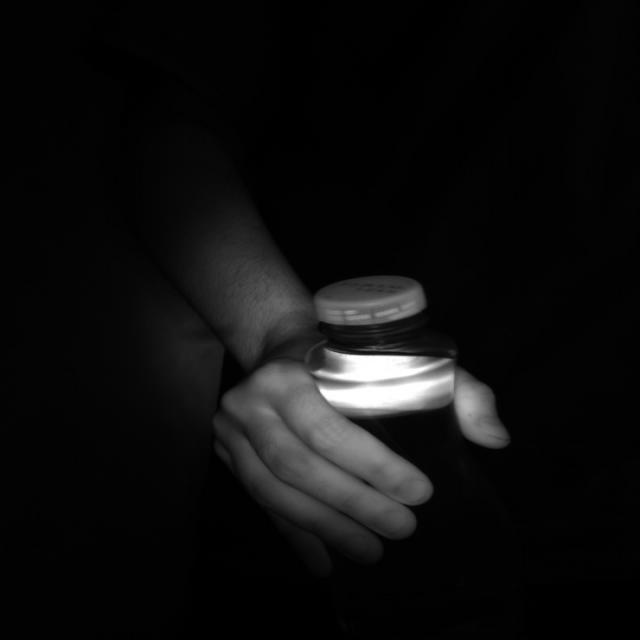Not Good: (316, 276, 426, 334)
